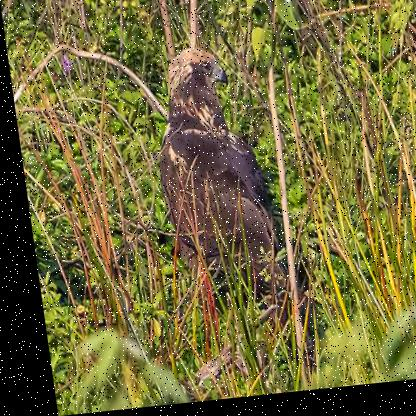Burung: (139, 45, 290, 321)
